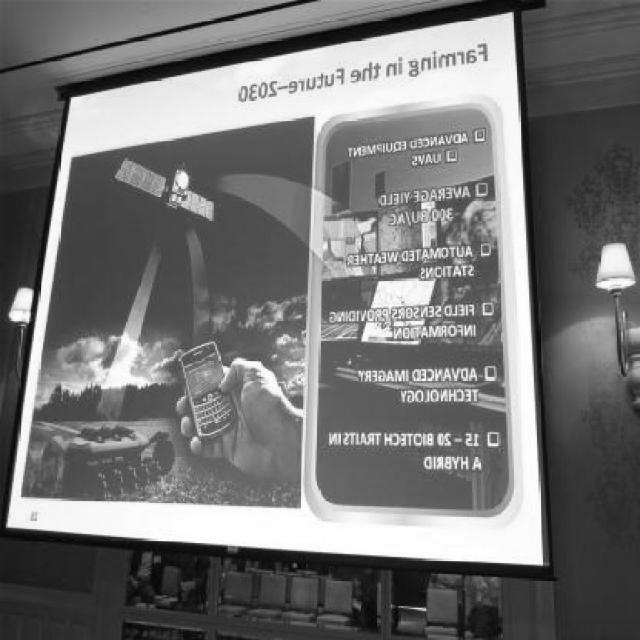fake: (180, 345, 238, 458), (332, 158, 350, 217), (372, 170, 386, 201)
